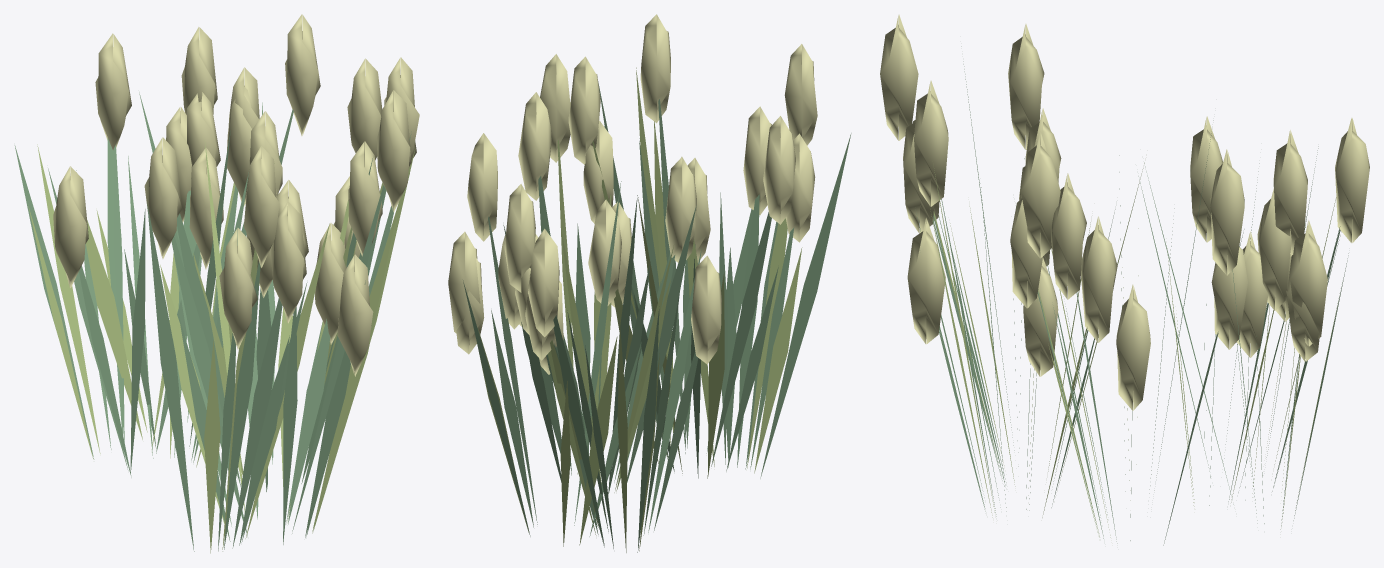
Rendered from river_reeds.glb.
The picture shows the model from 3 angles, left to right: view 1: azimuth 30°, elevation 25°; view 2: azimuth 150°, elevation 25°; view 3: azimuth 270°, elevation 25°; orthographic projection. The views are drawn at different scales.
Visible parts, largest first — view 1: river_reeds; view 2: river_reeds; view 3: river_reeds.
Part boxes in pixels (<box>): river_reeds: <box>14,14,419,553</box>; river_reeds: <box>448,14,851,552</box>; river_reeds: <box>880,14,1369,545</box>.
Size of the model in its own units: 1.27 by 1.72 by 1.62.
